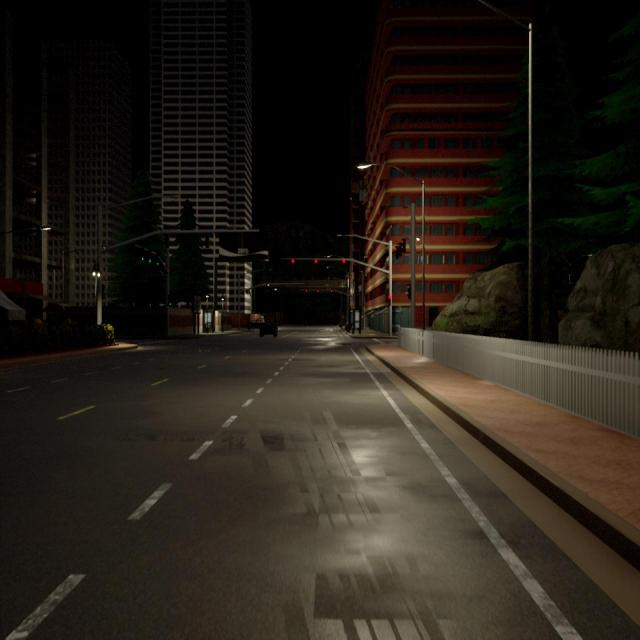Vehicle: (260, 321, 278, 338), (248, 320, 265, 330)
traffic_light: (164, 232, 169, 248), (401, 238, 406, 253), (397, 242, 402, 256), (407, 283, 411, 299), (206, 232, 210, 248), (394, 246, 398, 259), (168, 296, 172, 307), (141, 248, 144, 261), (388, 295, 391, 306), (148, 252, 151, 263), (291, 258, 295, 264), (342, 259, 346, 264), (157, 256, 159, 265), (314, 259, 318, 263), (353, 306, 355, 310), (306, 290, 308, 292), (317, 290, 319, 292), (330, 290, 332, 292)
